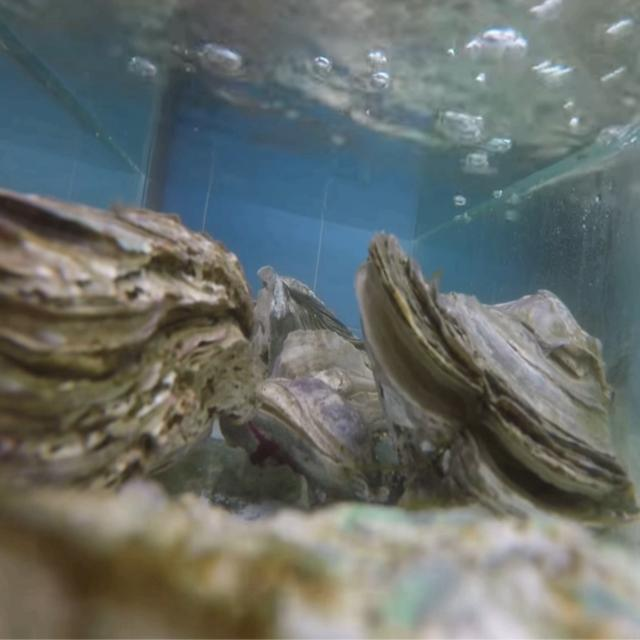Oyster-Closed: (0, 188, 258, 524), (250, 330, 410, 507)
Oyster-Indeterminate: (0, 478, 640, 640), (254, 266, 370, 383)
Oyster-Open: (357, 233, 640, 538)
